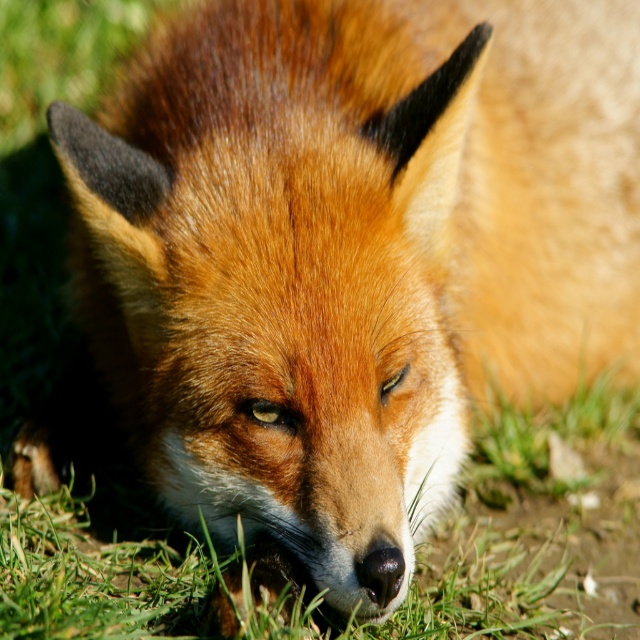Fox: (14, 0, 639, 626)
